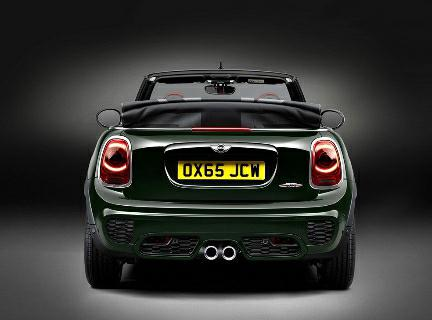MINI-JCW: (80, 67, 355, 274)
